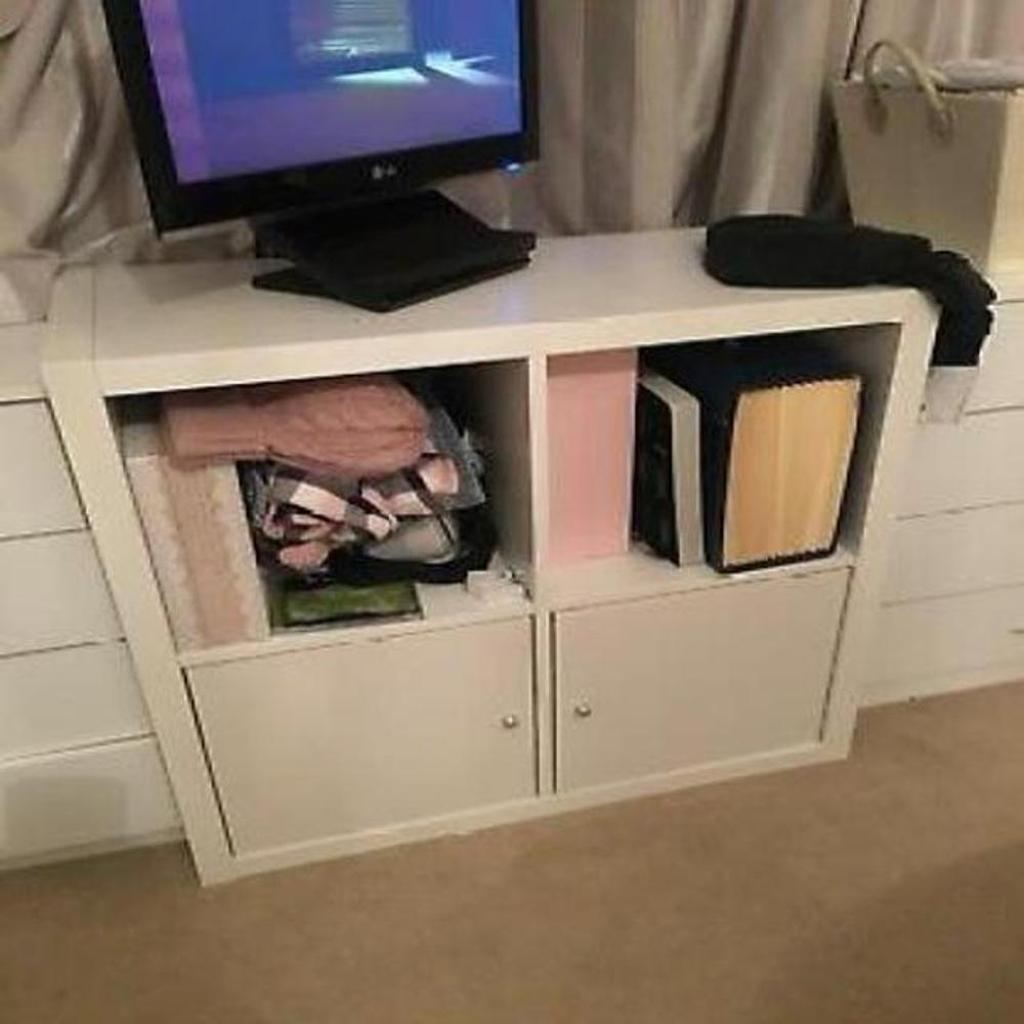lamp: (51, 228, 941, 890)
